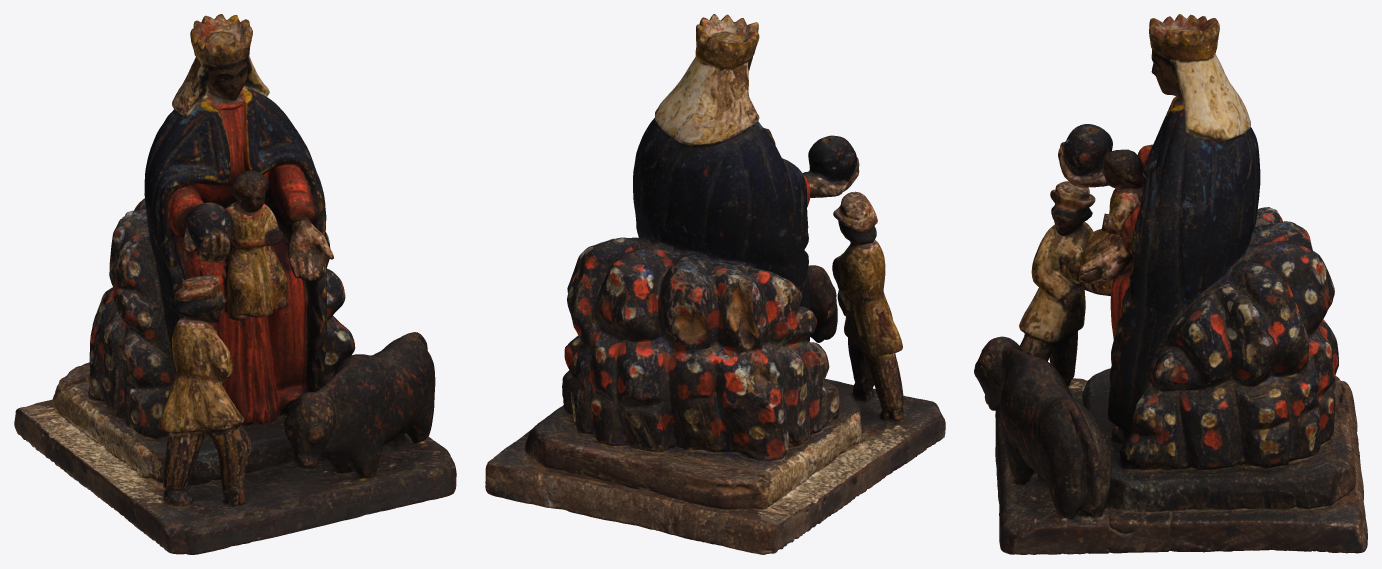
The model's file is nmah-1997_0097_0721-virgen_de_monserrate-100k-2048_std_draco.glb.
3 views of the same model, side by side, from view 1: azimuth 30°, elevation 25°; view 2: azimuth 150°, elevation 25°; view 3: azimuth 270°, elevation 25° (orthographic). The views are drawn at different scales.
Size of the model in its own units: 0.2325 by 0.3268 by 0.254.
Materials: 1 (1 with a texture image).
